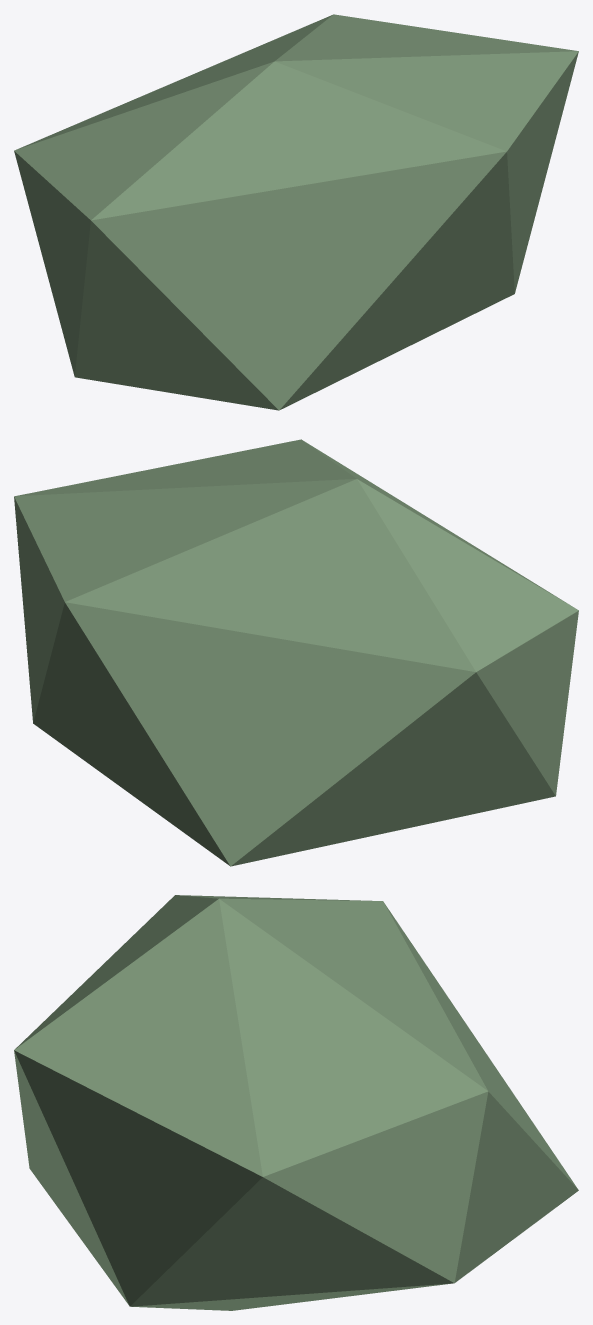
The model's file is mossrock.glb.
The picture shows the model from 3 angles, top to bottom: view 1: azimuth 30°, elevation 25°; view 2: azimuth 150°, elevation 25°; view 3: azimuth 270°, elevation 25°; orthographic projection. The views are drawn at different scales.
Visible parts, largest first — view 1: Icosphere; view 2: Icosphere; view 3: Icosphere.
Boxes of the visible parts, <box> form: Icosphere: <box>14,14,578,410</box>; Icosphere: <box>14,439,578,866</box>; Icosphere: <box>14,895,578,1310</box>.
Bounding box in the file's own units: 0.4437 × 0.2733 × 0.3562.
